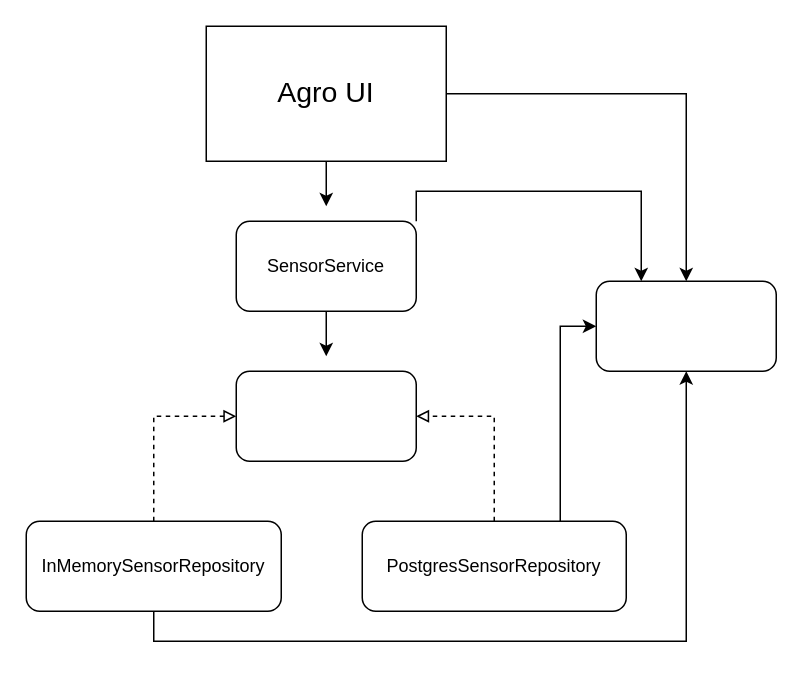
This 803x680 diagram has some shape labels left out. Each missing label, with the box of its shape:
SensorReading: (595, 280, 776, 371)
SensorRepository: (235, 370, 416, 461)
